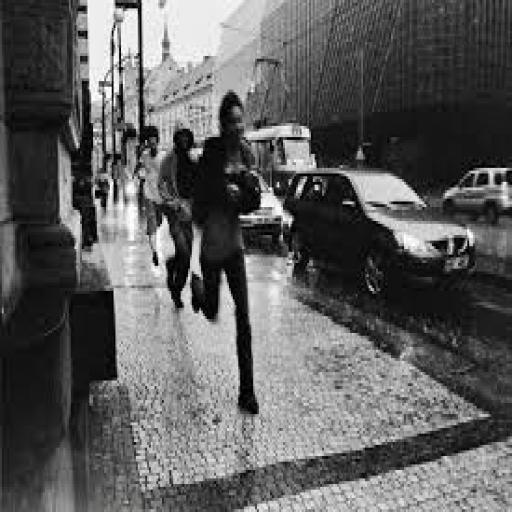running: (188, 87, 264, 417)
